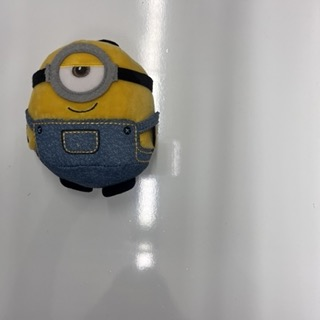minion: (25, 39, 159, 199)
